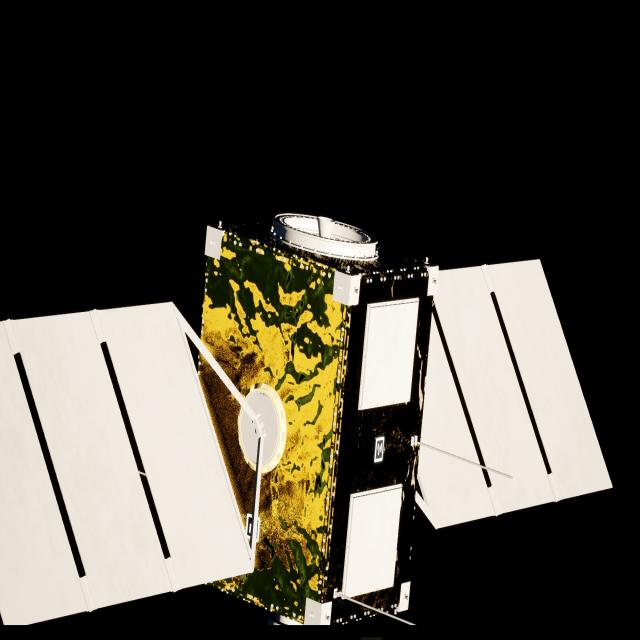medium_debris: (0, 214, 613, 626)
